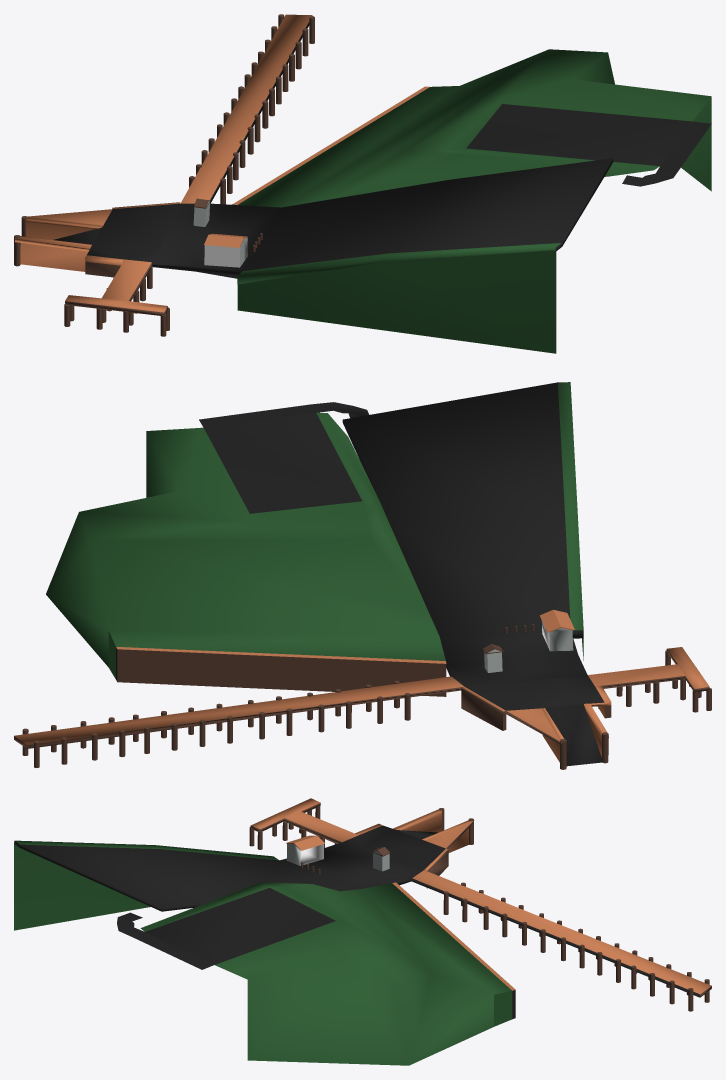
File: intboatramp.glb
The picture shows the model from 3 angles, top to bottom: view 1: azimuth 30°, elevation 25°; view 2: azimuth 150°, elevation 25°; view 3: azimuth 270°, elevation 25°; orthographic projection. The views are drawn at different scales.
Parts seen in each view (by area): view 1: Boat Launch.006; view 2: Boat Launch.006; view 3: Boat Launch.006.
Part boxes in pixels (x1,y1,x2,y2): Boat Launch.006: [14, 14, 711, 353]; Boat Launch.006: [14, 382, 711, 769]; Boat Launch.006: [14, 798, 711, 1065].
Bounding box in the file's own units: 0.3492 × 0.0724 × 0.4028.
